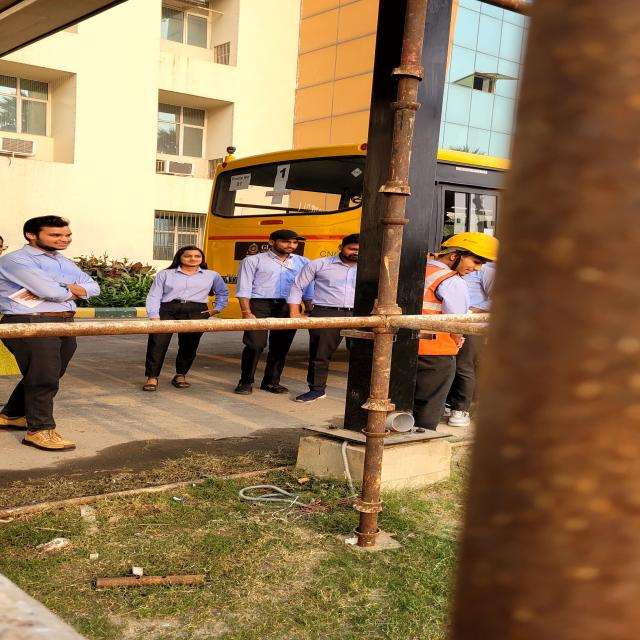safe: (426, 234, 495, 432)
unsafe: (5, 213, 94, 451), (146, 246, 225, 389), (237, 227, 294, 398), (308, 230, 362, 403)
